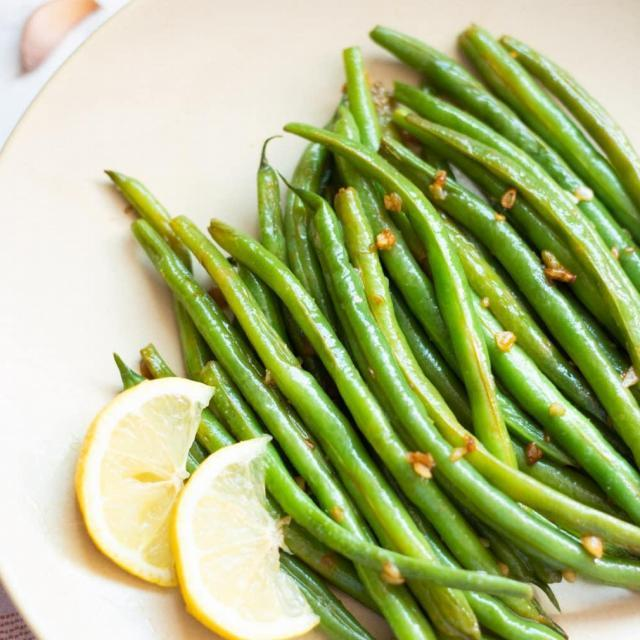Beans: (61, 3, 639, 639)
